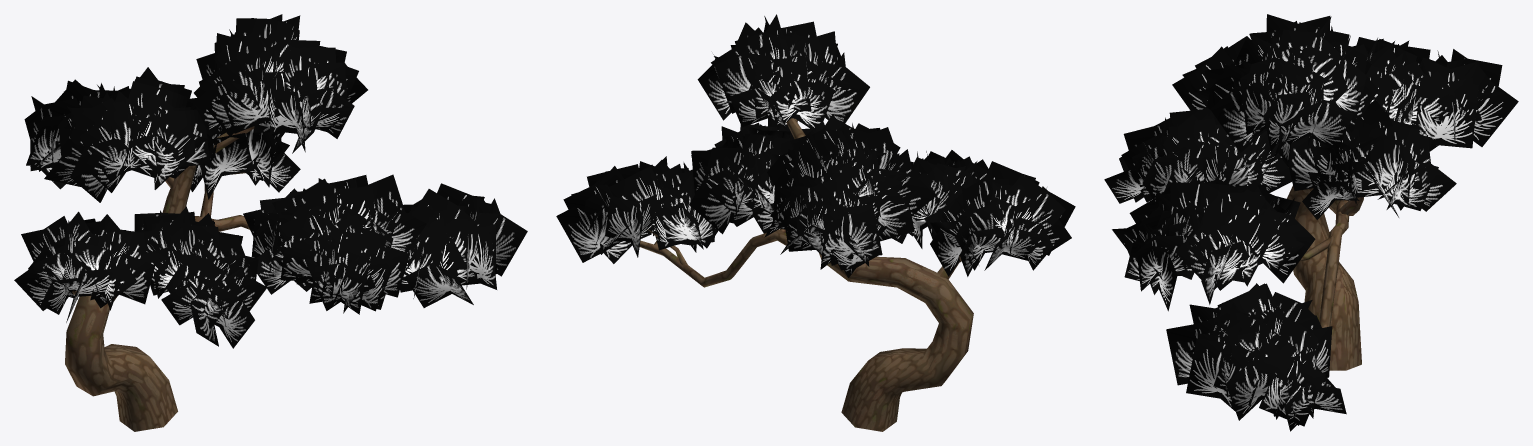
Rendered from P_ChinaPineB01.obj.
3 views of the same model, side by side, from view 1: azimuth 30°, elevation 25°; view 2: azimuth 150°, elevation 25°; view 3: azimuth 270°, elevation 25° (orthographic). The views are drawn at different scales.
Size of the model in its own units: 15.25 by 11.25 by 10.53.
